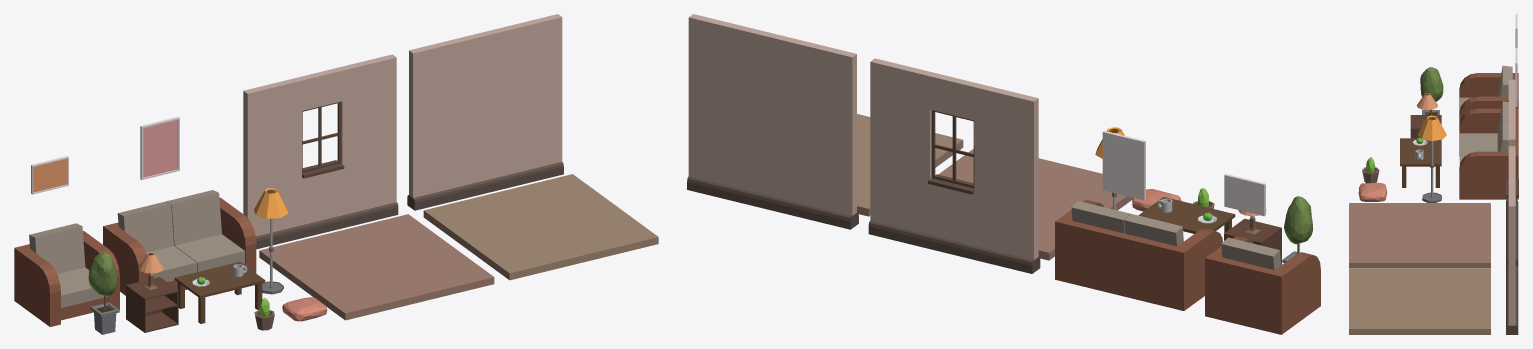
Rendered from HouseInteriorLite.fbx.
3 views of the same model, side by side, from view 1: azimuth 30°, elevation 25°; view 2: azimuth 150°, elevation 25°; view 3: azimuth 270°, elevation 25° (orthographic). The views are drawn at different scales.
Parts seen in each view (by area): view 1: Wall1, Wall2, Floor1, Floor2, Sofa1, Sofa2, Table, Room_Table, Picture1, Flower2, Lamp1, Picture2 (+3 smaller); view 2: Wall1, Wall2, Sofa1, Sofa2, Floor2, Picture1, Floor1, Room_Table, Picture2, Flower2, Table, Pillow; view 3: Floor1, Floor2, Sofa1, Sofa2, Wall1, Room_Table, Wall2, Lamp1, Flower2, Pillow, Table, Flower1 (+2 smaller).
Boxes of the visible parts, bbox=[...] form: Wall1: bbox=[407, 14, 563, 210]; Wall2: bbox=[243, 54, 398, 249]; Floor1: bbox=[423, 174, 658, 280]; Floor2: bbox=[259, 214, 494, 320]; Sofa1: bbox=[103, 190, 256, 295]; Sofa2: bbox=[14, 223, 119, 326]; Table: bbox=[126, 277, 178, 332]; Room_Table: bbox=[174, 261, 265, 323]; Picture1: bbox=[140, 116, 179, 179]; Flower2: bbox=[88, 252, 119, 334]; Lamp1: bbox=[254, 188, 288, 294]; Picture2: bbox=[31, 156, 68, 194]; Wall1: bbox=[687, 14, 858, 229]; Wall2: bbox=[868, 58, 1040, 273]; Sofa1: bbox=[1055, 200, 1222, 310]; Sofa2: bbox=[1205, 236, 1320, 334]; Floor2: bbox=[938, 149, 1133, 260]; Picture1: bbox=[1102, 131, 1145, 200]; Floor1: bbox=[857, 114, 963, 216]; Room_Table: bbox=[1138, 197, 1235, 233]; Picture2: bbox=[1224, 174, 1265, 216]; Flower2: bbox=[1282, 196, 1312, 262]; Table: bbox=[1224, 218, 1281, 264]; Pillow: bbox=[1132, 189, 1181, 211]; Floor1: bbox=[1349, 269, 1490, 334]; Floor2: bbox=[1349, 203, 1490, 268]; Sofa1: bbox=[1459, 101, 1518, 199]; Sofa2: bbox=[1459, 65, 1518, 123]; Wall1: bbox=[1506, 146, 1518, 334]; Room_Table: bbox=[1400, 138, 1441, 187]; Wall2: bbox=[1505, 79, 1518, 267]; Lamp1: bbox=[1417, 115, 1446, 202]; Flower2: bbox=[1420, 67, 1443, 114]; Pillow: bbox=[1358, 182, 1387, 201]; Table: bbox=[1410, 115, 1441, 138]; Flower1: bbox=[1362, 157, 1379, 183].
Bounding box in the file's own units: 21.33 × 5.87 × 7.01.
